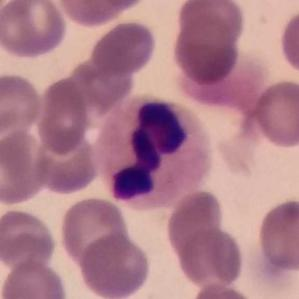Neutrophil: (94, 90, 218, 212)
RBC: (173, 47, 269, 113), (57, 194, 131, 270), (164, 187, 228, 274), (170, 12, 243, 87), (76, 231, 153, 299), (172, 224, 246, 292), (34, 75, 92, 156), (32, 131, 100, 196), (89, 18, 159, 78), (0, 0, 68, 60), (0, 127, 50, 207), (0, 206, 59, 269), (250, 77, 299, 150), (255, 196, 299, 274), (174, 0, 248, 44), (69, 57, 132, 108), (0, 70, 45, 136), (0, 258, 69, 299), (248, 243, 299, 298), (55, 0, 143, 29), (276, 5, 299, 80), (187, 281, 260, 299), (85, 0, 151, 9)
